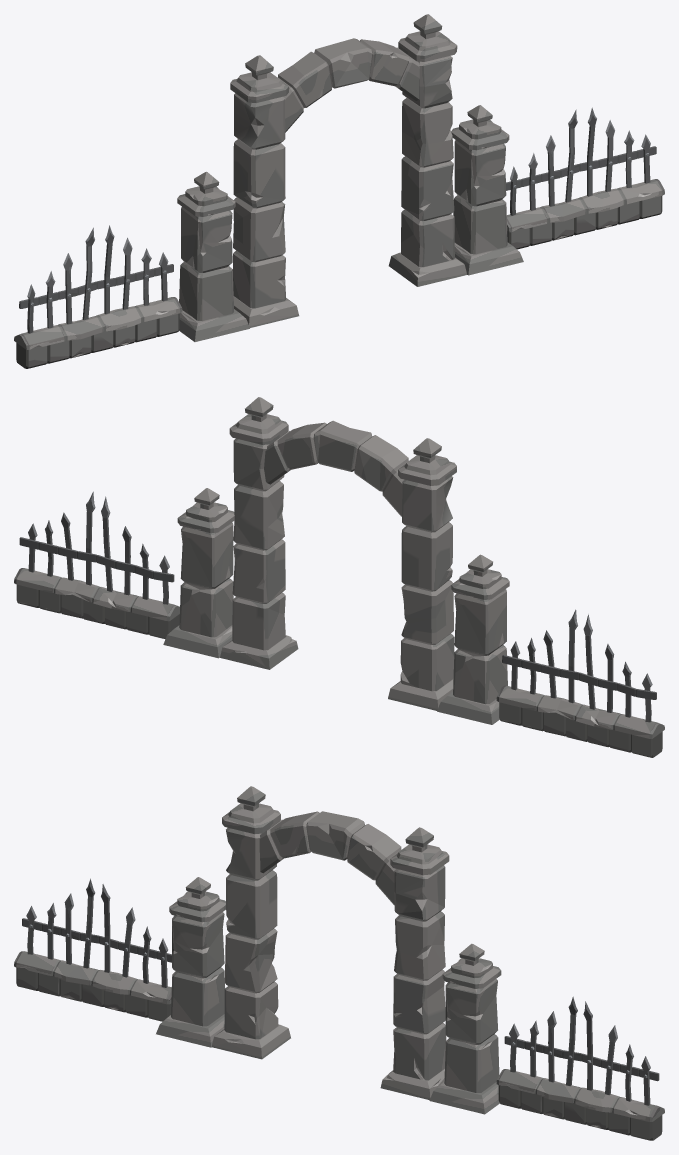
File: crypt_yard_gate.gltf
The picture shows the model from 3 angles, top to bottom: view 1: azimuth 30°, elevation 25°; view 2: azimuth 150°, elevation 25°; view 3: azimuth 330°, elevation 25°; orthographic projection.
Parts seen in each view (by area): view 1: crypt_yard_gate; view 2: crypt_yard_gate; view 3: crypt_yard_gate.
Part boxes in pixels (bbox=[...]): crypt_yard_gate: bbox=[14, 14, 664, 368]; crypt_yard_gate: bbox=[14, 397, 664, 757]; crypt_yard_gate: bbox=[14, 786, 664, 1140].
Size of the model in its own units: 10.38 by 3.97 by 0.8701.
1 material, 1 textured.
